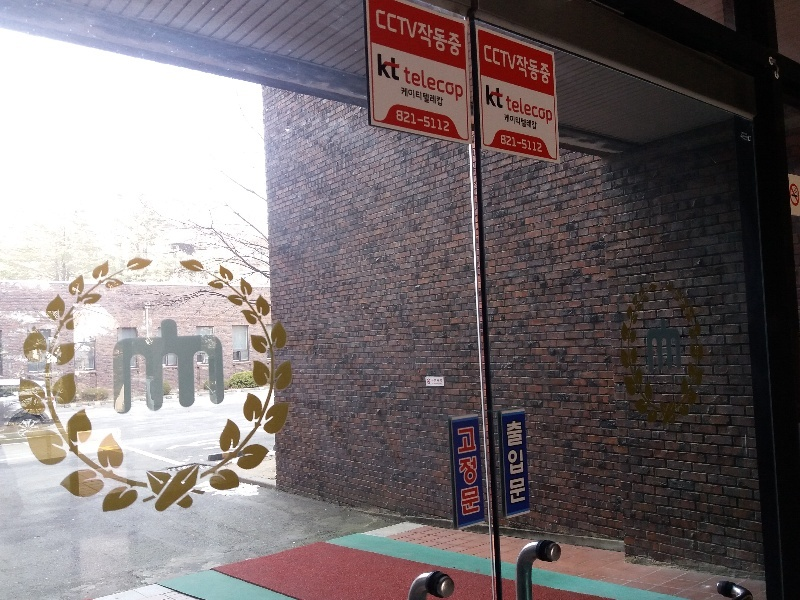text: (465, 425, 480, 519), (513, 418, 527, 507), (455, 425, 464, 519), (417, 62, 432, 104), (433, 62, 448, 104), (449, 62, 464, 104), (505, 418, 512, 507), (433, 21, 448, 59), (403, 62, 416, 104), (418, 21, 432, 59), (385, 7, 400, 41), (401, 7, 416, 41), (513, 93, 528, 127), (529, 93, 544, 127), (449, 21, 462, 59), (385, 52, 401, 82), (529, 55, 544, 86), (497, 43, 512, 71), (516, 55, 528, 86), (401, 109, 416, 133), (417, 109, 432, 133), (433, 109, 448, 133), (484, 43, 496, 71), (401, 85, 416, 107), (417, 85, 432, 107), (513, 133, 528, 153), (485, 84, 496, 110), (529, 133, 543, 153), (376, 7, 384, 41), (545, 93, 553, 127), (513, 114, 528, 131), (433, 85, 444, 107), (500, 133, 512, 153), (505, 93, 512, 127), (545, 55, 552, 86), (377, 52, 384, 82), (497, 84, 504, 110), (739, 130, 752, 142), (503, 114, 512, 131), (529, 114, 537, 131), (396, 109, 400, 133), (481, 425, 482, 519), (513, 43, 516, 71), (433, 379, 443, 383), (417, 7, 418, 41), (433, 383, 443, 386), (449, 109, 450, 133), (431, 379, 432, 383)
